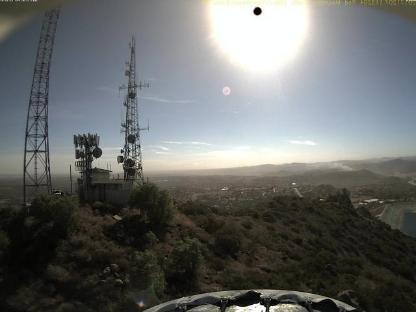smoke: (311, 153, 353, 173)
